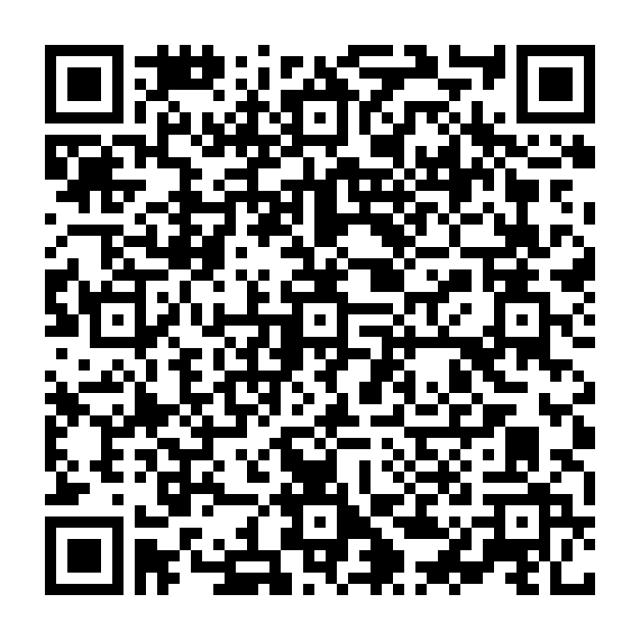QRCode: (1, 1, 630, 633)
